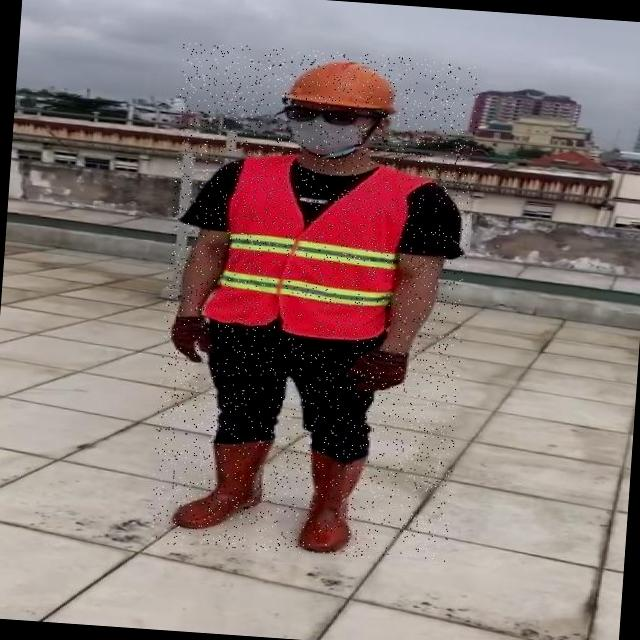boots: (172, 430, 274, 532), (299, 448, 368, 554)
gloves: (345, 320, 428, 412), (137, 290, 230, 365)
helmet: (274, 51, 406, 119)
vest: (208, 154, 410, 340)
